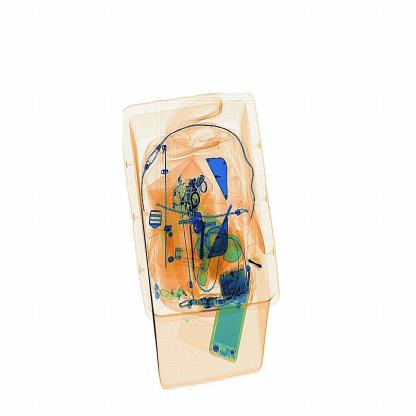knife: (190, 215, 214, 268)
